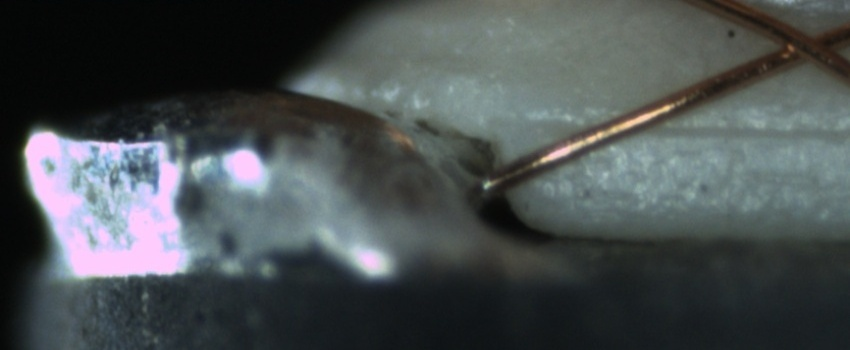CL: (757, 13, 849, 74)
DL: (538, 96, 850, 161)
